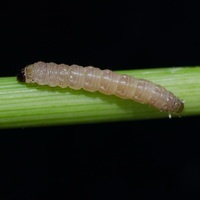insect: (24, 61, 183, 112)
